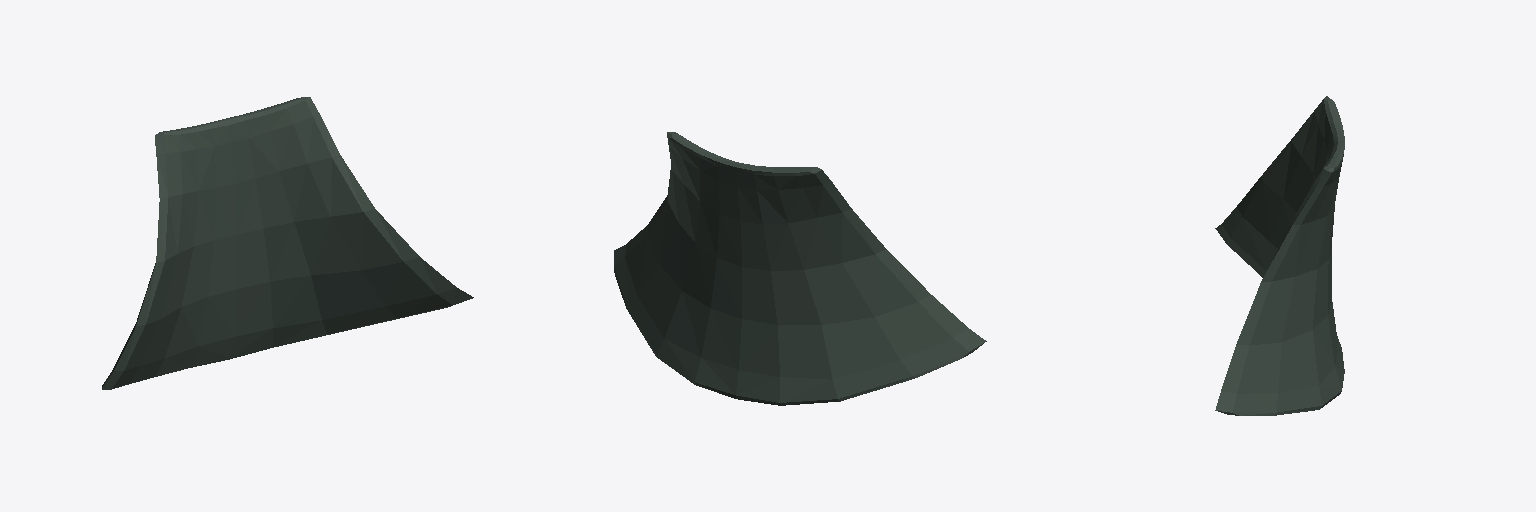
File: Connective.Ligaments.Capsula_articularis_membrana_fibrosa_R.349.obj
3 views of the same model, side by side, from view 1: azimuth 30°, elevation 25°; view 2: azimuth 150°, elevation 25°; view 3: azimuth 270°, elevation 25° (orthographic).
Visible parts, largest first — view 1: Connective:Ligaments:Capsula_articularis_membrana_fibrosa_R.349_; view 2: Connective:Ligaments:Capsula_articularis_membrana_fibrosa_R.349_; view 3: Connective:Ligaments:Capsula_articularis_membrana_fibrosa_R.349_.
Part boxes in pixels (x1,y1,x2,y2): Connective:Ligaments:Capsula_articularis_membrana_fibrosa_R.349_: (102, 97, 473, 389); Connective:Ligaments:Capsula_articularis_membrana_fibrosa_R.349_: (614, 132, 986, 405); Connective:Ligaments:Capsula_articularis_membrana_fibrosa_R.349_: (1215, 96, 1344, 415).
Bounding box in the file's own units: 0.1997 × 0.1258 × 0.0601.